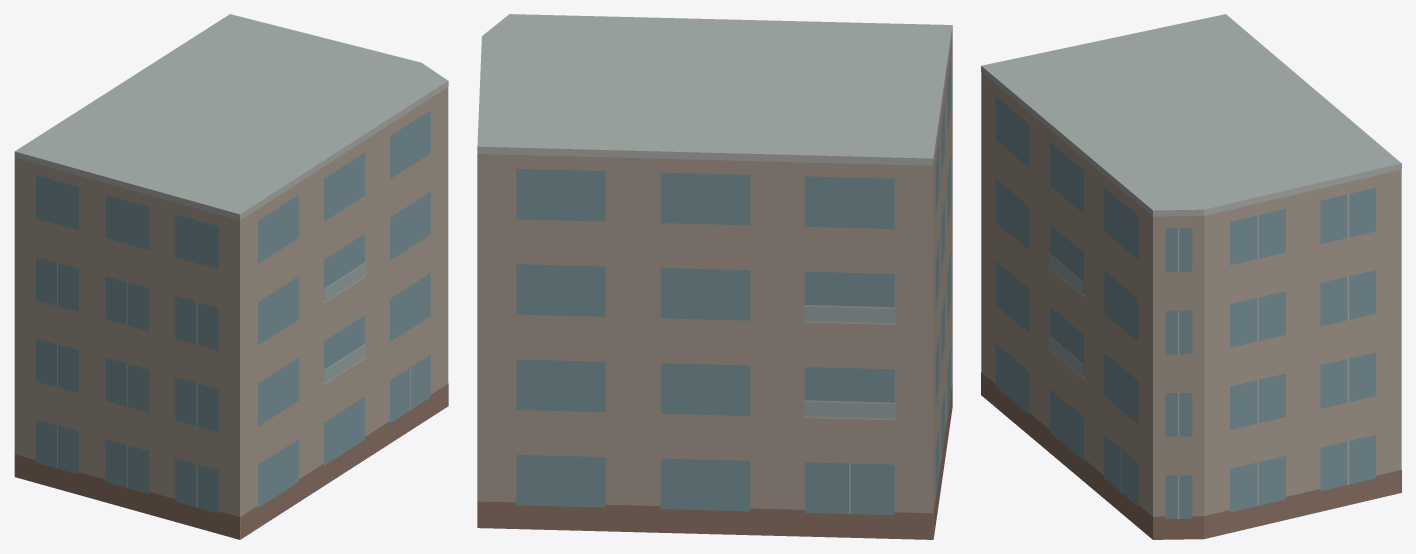
File: survey-upis-32809883.glb
3 views of the same model, side by side, from view 1: azimuth 30°, elevation 25°; view 2: azimuth 150°, elevation 25°; view 3: azimuth 270°, elevation 25° (orthographic). The views are drawn at different scales.
Visible parts, largest first — view 1: survey-upis-32809883.tmp; view 2: survey-upis-32809883.tmp; view 3: survey-upis-32809883.tmp.
Boxes of the visible parts, box(x1,y1,x2,y2) form: survey-upis-32809883.tmp: box(14, 14, 448, 539); survey-upis-32809883.tmp: box(477, 14, 952, 539); survey-upis-32809883.tmp: box(981, 14, 1401, 539).
Size of the model in its own units: 16.51 by 12.9 by 14.94.
